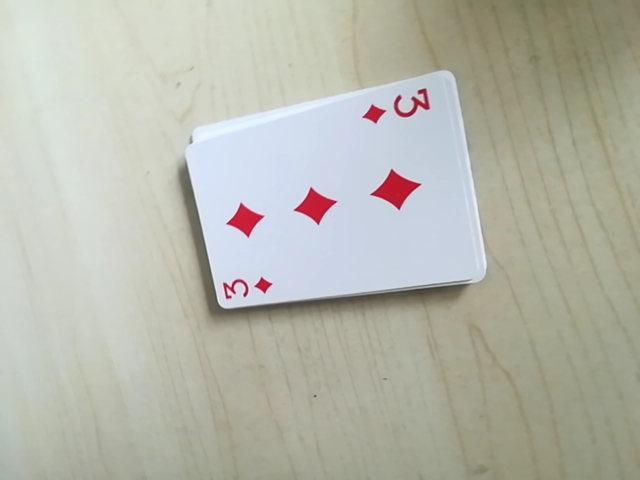fk 3: (359, 84, 442, 131), (215, 267, 276, 309)
